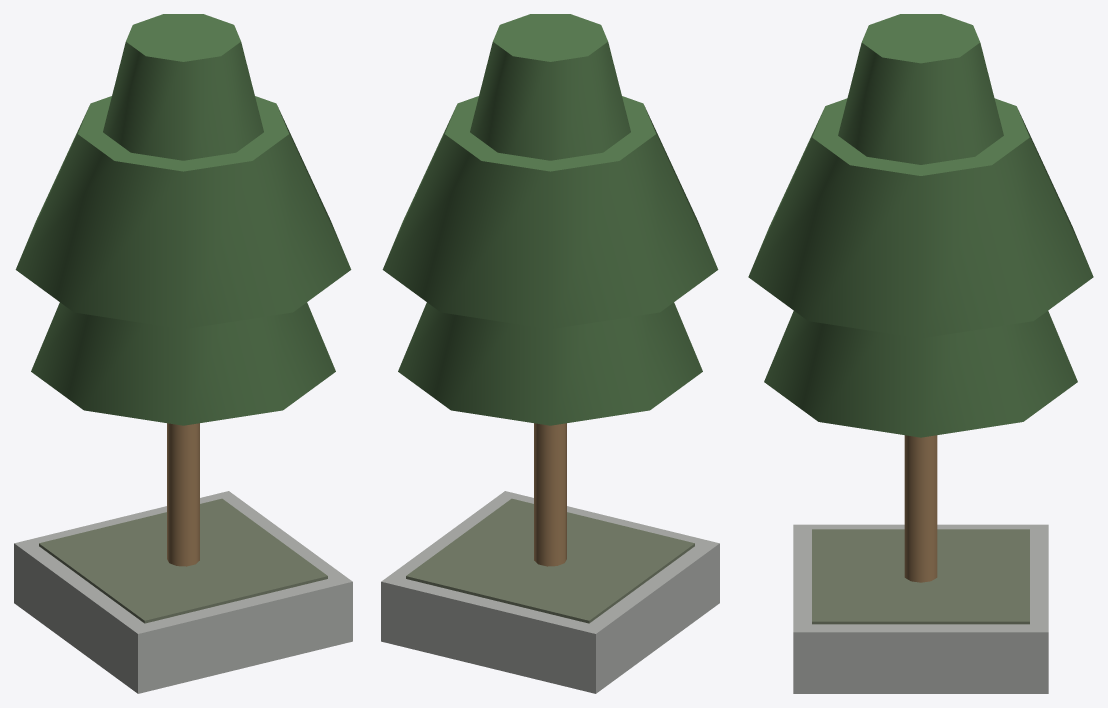
Rendered from planter_tree.glb.
3 views of the same model, side by side, from view 1: azimuth 30°, elevation 25°; view 2: azimuth 150°, elevation 25°; view 3: azimuth 270°, elevation 25° (orthographic). The views are drawn at different scales.
Visible parts, largest first — view 1: planter_tree; view 2: planter_tree; view 3: planter_tree.
Boxes of the visible parts, left/top/right/bottom form: planter_tree: left=14, top=14, right=352, bottom=693; planter_tree: left=381, top=14, right=719, bottom=693; planter_tree: left=748, top=14, right=1093, bottom=693.
Bounding box in the file's own units: 3.2 × 6.25 × 3.25.
